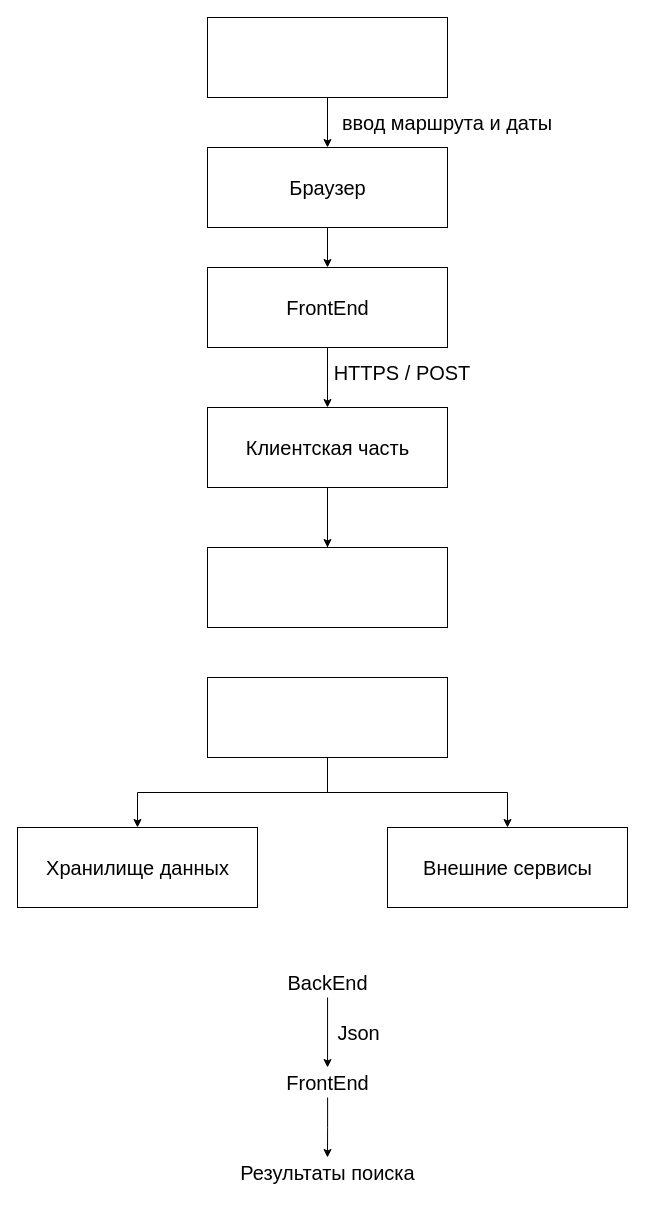
This 645x1205 diagram has some shape labels left out. The shapes that lost their labels are listed below. From the top down, each one's centre as x and y in pixels, then its label:
At point (327, 57): "Пользователь".
At point (327, 587): "API Aviasales /search/v3.2/results".
At point (327, 717): "Серверная часть".
